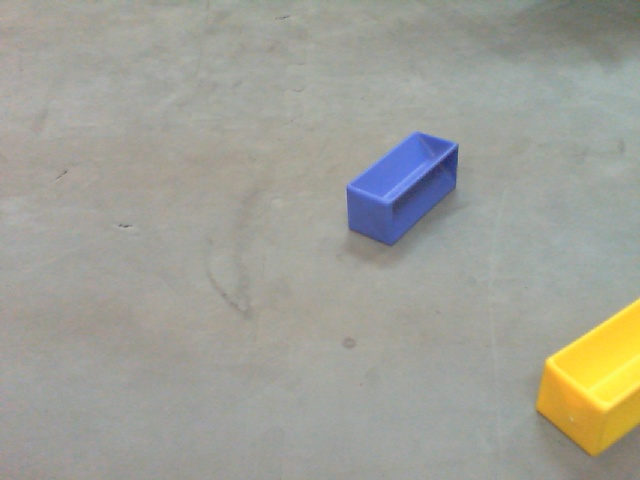BlueSample: (344, 129, 460, 253)
YellowSample: (531, 277, 640, 462)
